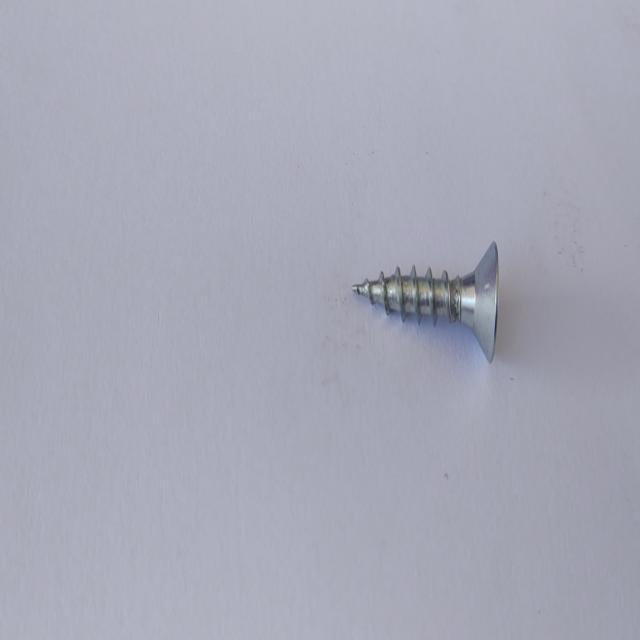Screw: (352, 241, 499, 361)
